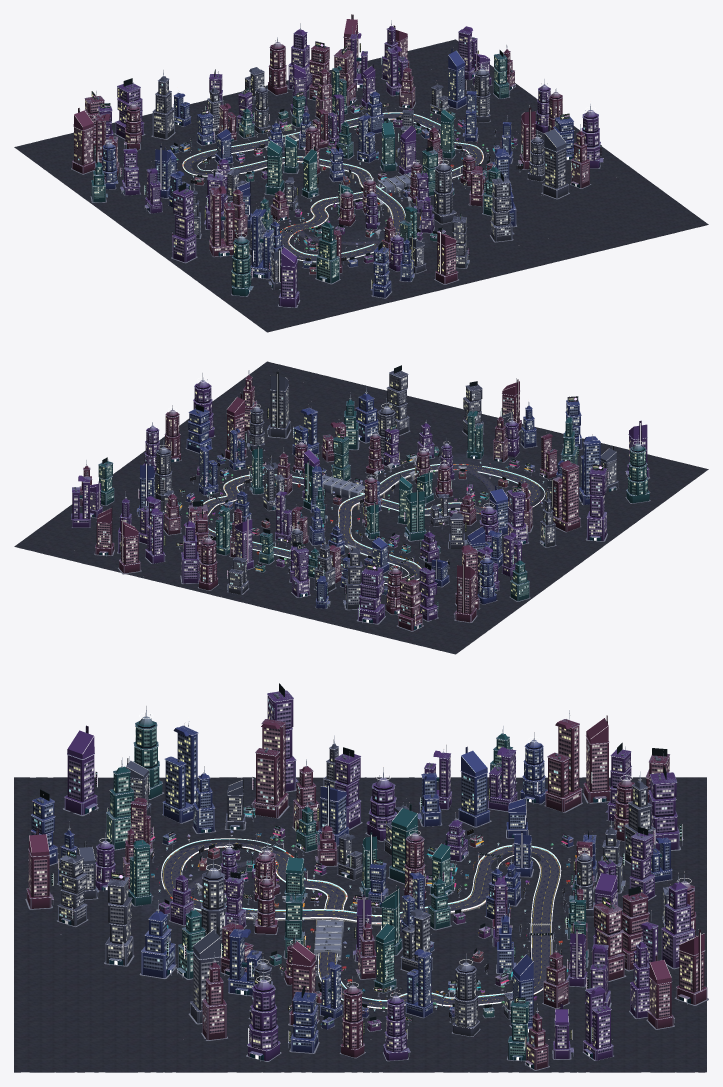
Rendered from cidade-neon.glb.
The picture shows the model from 3 angles, top to bottom: view 1: azimuth 30°, elevation 25°; view 2: azimuth 150°, elevation 25°; view 3: azimuth 270°, elevation 25°; orthographic projection. The views are drawn at different scales.
Visible parts, largest first — view 1: sec14_props, sec3_props, sec1_props, sec8_props, sec0_props, sec7_props, sec10_props, sec15_props, sec9_props, terrain28, sec4_props, sec12_props (+40 smaller); view 2: sec14_props, sec3_props, sec1_props, sec7_props, sec0_props, sec10_props, sec8_props, sec15_props, sec9_props, sec4_props, sec6_props, sec2_props (+39 smaller); view 3: sec14_props, sec3_props, sec1_props, sec7_props, sec8_props, sec10_props, sec9_props, sec0_props, sec15_props, sec4_props, terrain28, sec2_props (+48 smaller).
Boxes of the visible parts, x1,y1,x2,y2 form: sec14_props: (71, 78, 247, 213); sec3_props: (441, 78, 603, 199); sec1_props: (334, 14, 492, 133); sec8_props: (231, 207, 391, 307); sec0_props: (244, 22, 375, 149); sec7_props: (171, 164, 321, 263); sec10_props: (362, 156, 517, 242); sec15_props: (151, 68, 284, 163); sec9_props: (355, 204, 469, 284); terrain28: (514, 185, 632, 236); sec4_props: (396, 124, 512, 206); sec12_props: (283, 106, 379, 182); sec14_props: (356, 512, 530, 631); sec3_props: (143, 370, 291, 495); sec1_props: (71, 460, 251, 574); sec7_props: (458, 460, 607, 547); sec0_props: (180, 486, 308, 594); sec10_props: (344, 365, 455, 484); sec8_props: (498, 396, 650, 506); sec15_props: (289, 521, 389, 610); sec9_props: (434, 378, 537, 479); sec4_props: (277, 406, 351, 498); sec6_props: (397, 458, 474, 541); sec2_props: (79, 441, 285, 516); sec14_props: (384, 709, 683, 866); sec3_props: (188, 920, 433, 1061); sec1_props: (484, 897, 708, 1060); sec7_props: (224, 683, 397, 871); sec8_props: (28, 705, 233, 870); sec10_props: (104, 839, 285, 979); sec9_props: (25, 823, 202, 927); sec0_props: (472, 869, 696, 971); sec15_props: (504, 771, 672, 906); sec4_props: (220, 891, 376, 996); terrain28: (86, 987, 206, 1039); sec2_props: (399, 904, 549, 1070).
Bounding box in the file's own units: 675 × 108 × 672.
Materials: 38 (20 with a texture image).
